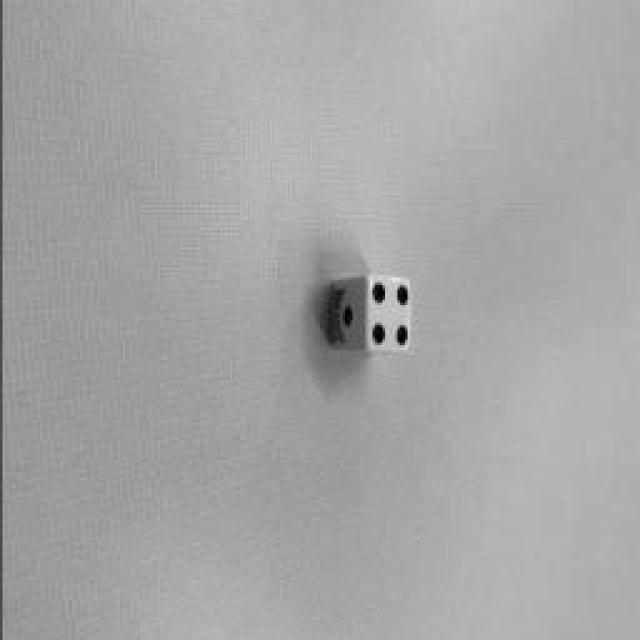dice_4: (364, 276, 411, 354)
